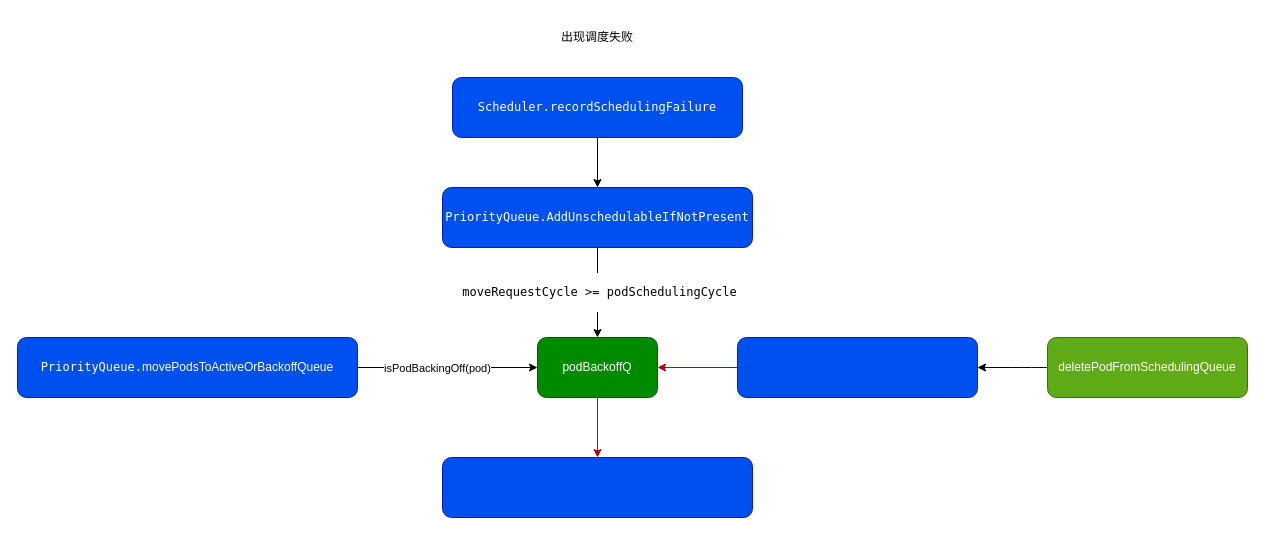
This 1265x535 diagram has some shape labels left out. The shapes that lost their labels are listed below. From the top down, each one's box as (x1, y1, x2, y2) in pixels, then its label:
(736, 336, 978, 398): PriorityQueue. Delete
(442, 456, 752, 518): flushBackoffQCompleted/1s
